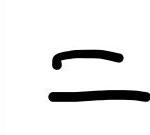eqv: (47, 47, 150, 109)
